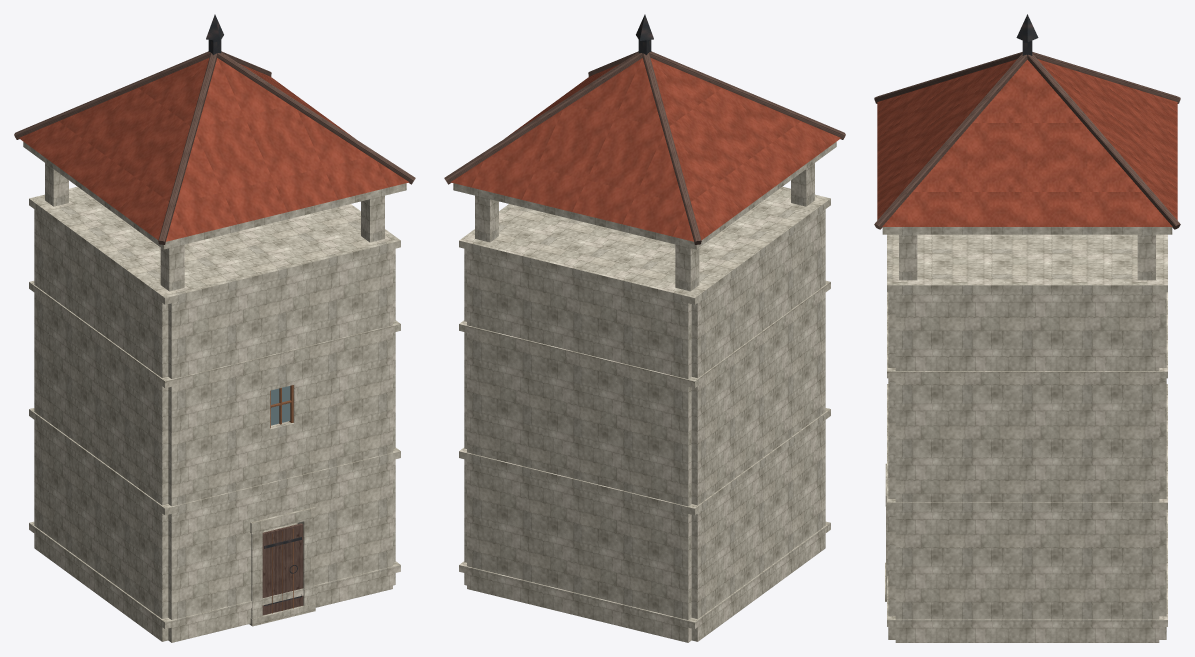
File: B06_torre.glb
3 views of the same model, side by side, from view 1: azimuth 30°, elevation 25°; view 2: azimuth 150°, elevation 25°; view 3: azimuth 270°, elevation 25° (orthographic). The views are drawn at different scales.
Visible parts, largest first — view 1: AUR034_TOWER_masonry_shaft, AUR034_TOWER_four_sided_clay_spire, AUR034_TOWER_string_course_8.08, AUR034_TOWER_string_course_6.1, AUR034_TOWER_string_course_3.08, AUR034_TOWER_entry_leaf0, AUR034_TOWER_string_course_0.38, AUR034_TOWER_belfry_cornice, AUR034_TOWER_rake1, AUR034_TOWER_rake0, AUR034_TOWER_rake3, AUR034_TOWER_belfry_pier-2.49-2.49 (+7 smaller); view 2: AUR034_TOWER_masonry_shaft, AUR034_TOWER_four_sided_clay_spire, AUR034_TOWER_string_course_8.08, AUR034_TOWER_string_course_0.38, AUR034_TOWER_string_course_6.1, AUR034_TOWER_string_course_3.08, AUR034_TOWER_belfry_cornice, AUR034_TOWER_rake2, AUR034_TOWER_rake3, AUR034_TOWER_rake0, AUR034_TOWER_belfry_pier-2.492.49, AUR034_TOWER_belfry_pier2.492.49 (+1 smaller); view 3: AUR034_TOWER_masonry_shaft, AUR034_TOWER_four_sided_clay_spire, AUR034_TOWER_string_course_8.08, AUR034_TOWER_string_course_3.08, AUR034_TOWER_string_course_6.1, AUR034_TOWER_string_course_0.38, AUR034_TOWER_belfry_cornice, AUR034_TOWER_rake1, AUR034_TOWER_rake2, AUR034_TOWER_rake0, AUR034_TOWER_rake3, AUR034_TOWER_belfry_pier2.49-2.49 (+1 smaller).
Part boxes in pixels (<box>): AUR034_TOWER_masonry_shaft: <box>34,209,395,642</box>; AUR034_TOWER_four_sided_clay_spire: <box>19,58,409,241</box>; AUR034_TOWER_string_course_8.08: <box>29,186,400,304</box>; AUR034_TOWER_string_course_6.1: <box>29,280,400,388</box>; AUR034_TOWER_string_course_3.08: <box>29,408,400,515</box>; AUR034_TOWER_entry_leaf0: <box>262,523,303,615</box>; AUR034_TOWER_string_course_0.38: <box>29,521,400,629</box>; AUR034_TOWER_belfry_cornice: <box>23,142,406,249</box>; AUR034_TOWER_rake1: <box>217,52,415,184</box>; AUR034_TOWER_rake0: <box>158,53,217,244</box>; AUR034_TOWER_rake3: <box>14,51,210,139</box>; AUR034_TOWER_belfry_pier-2.49-2.49: <box>160,244,184,291</box>; AUR034_TOWER_masonry_shaft: <box>464,209,825,642</box>; AUR034_TOWER_four_sided_clay_spire: <box>450,58,840,241</box>; AUR034_TOWER_string_course_8.08: <box>459,186,830,304</box>; AUR034_TOWER_string_course_0.38: <box>459,521,830,629</box>; AUR034_TOWER_string_course_6.1: <box>459,280,830,388</box>; AUR034_TOWER_string_course_3.08: <box>459,408,830,515</box>; AUR034_TOWER_belfry_cornice: <box>453,142,836,249</box>; AUR034_TOWER_rake2: <box>444,52,642,184</box>; AUR034_TOWER_rake3: <box>642,53,701,244</box>; AUR034_TOWER_rake0: <box>649,51,845,139</box>; AUR034_TOWER_belfry_pier-2.492.49: <box>675,244,699,291</box>; AUR034_TOWER_belfry_pier2.492.49: <box>475,195,498,242</box>; AUR034_TOWER_masonry_shaft: <box>888,292,1166,642</box>; AUR034_TOWER_four_sided_clay_spire: <box>877,59,1177,226</box>; AUR034_TOWER_string_course_8.08: <box>887,234,1167,292</box>; AUR034_TOWER_string_course_3.08: <box>887,384,1167,509</box>; AUR034_TOWER_string_course_6.1: <box>887,292,1167,378</box>; AUR034_TOWER_string_course_0.38: <box>887,509,1167,626</box>; AUR034_TOWER_belfry_cornice: <box>882,227,1172,234</box>; AUR034_TOWER_rake1: <box>874,53,1027,229</box>; AUR034_TOWER_rake2: <box>1027,53,1180,229</box>; AUR034_TOWER_rake0: <box>874,52,1022,103</box>; AUR034_TOWER_rake3: <box>1032,52,1180,103</box>; AUR034_TOWER_belfry_pier2.49-2.49: <box>899,234,917,280</box>.
Size of the model in its own units: 6.4 by 13.16 by 6.4.
Materials: 6 (5 with a texture image).
